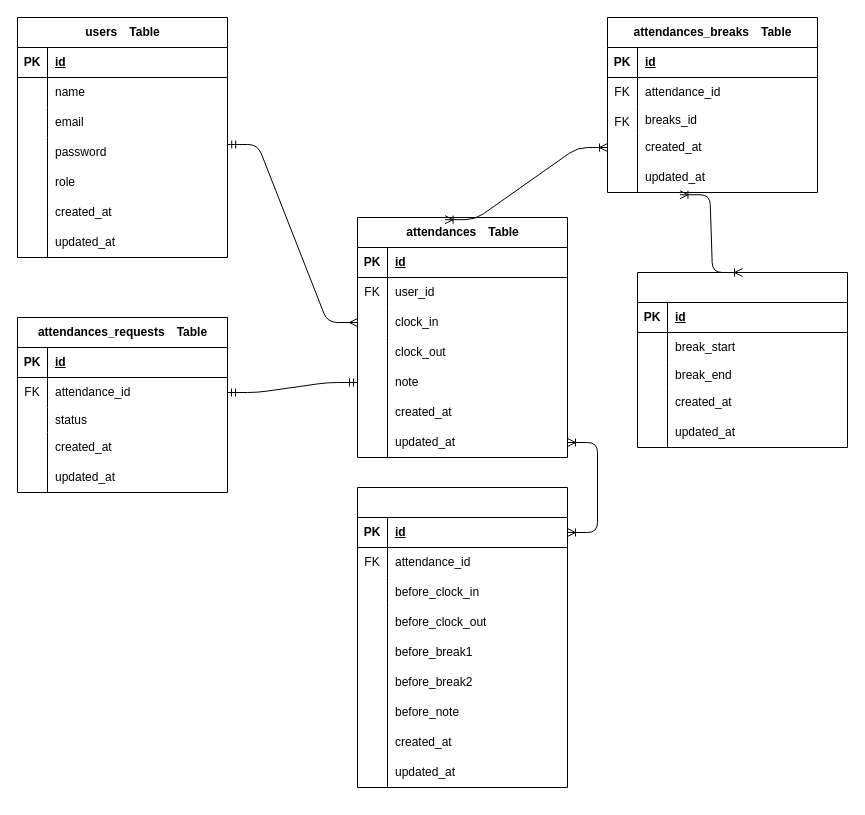
Some shapes in this 865 by 815 pixel diagram are drawn without their labels. Each missing label, with the box of its shape:
break_time Table: (636, 272, 848, 448)
logs Table: (356, 486, 568, 788)
